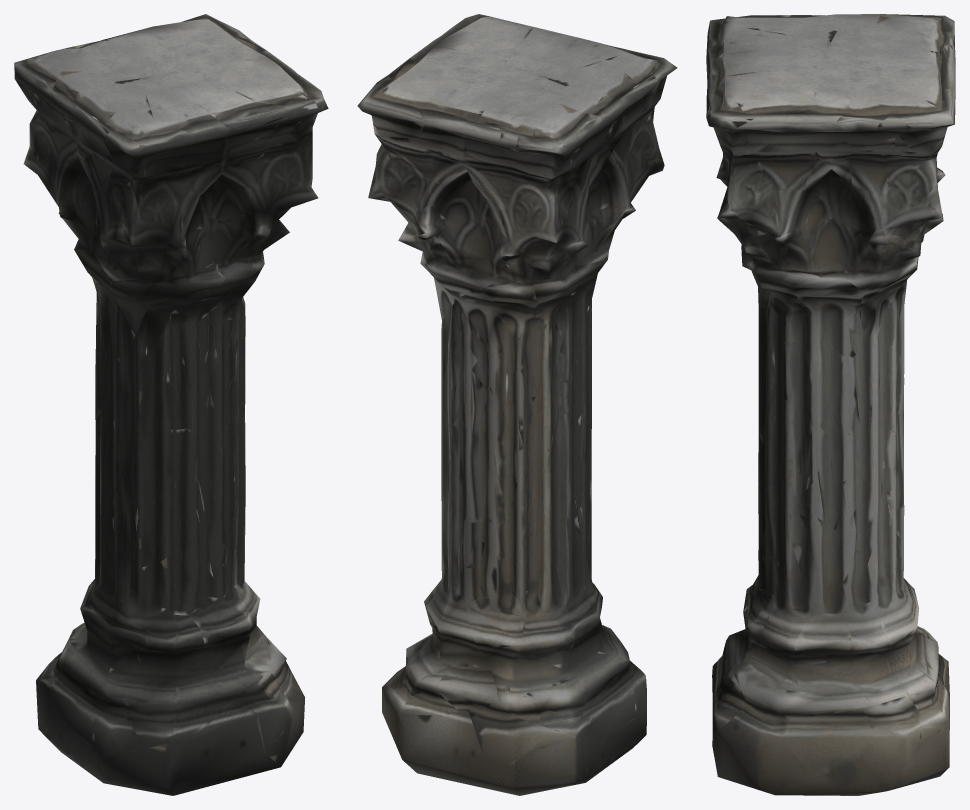
Rendered from pillar_intact.glb.
3 renders of one model, left to right at view 1: azimuth 30°, elevation 25°; view 2: azimuth 150°, elevation 25°; view 3: azimuth 270°, elevation 25°, orthographic. The views are drawn at different scales.
Size of the model in its own units: 0.6484 by 2 by 0.6478.
Materials: 1 (1 with a texture image).
